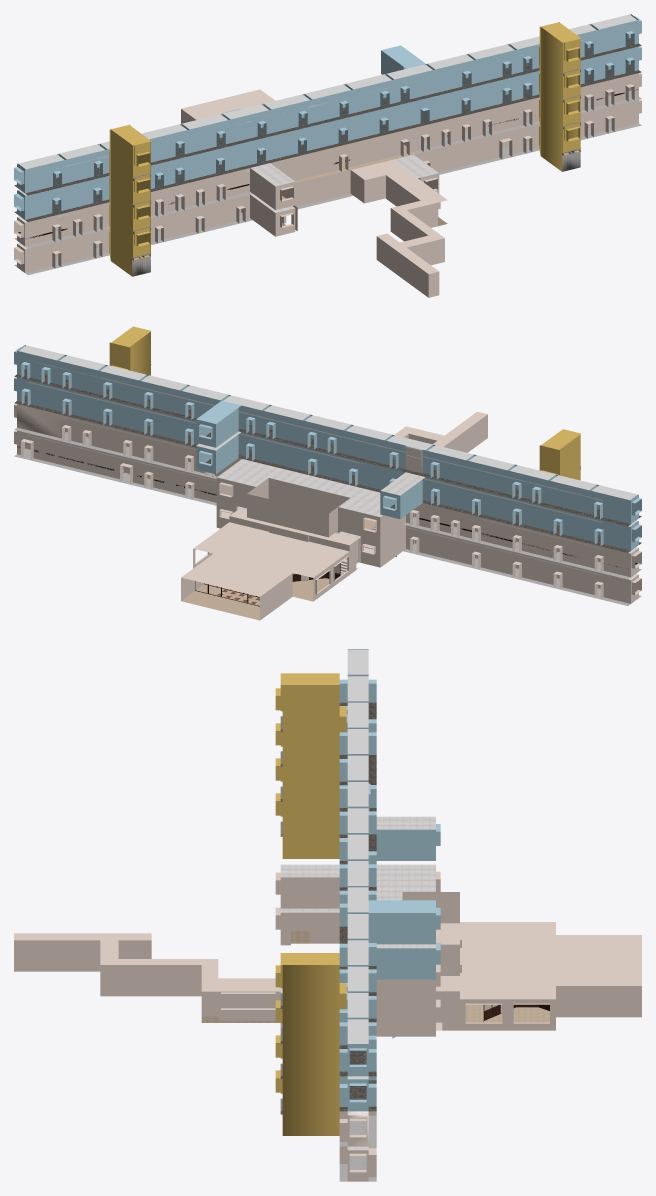
3 views of the same model, one above another, from view 1: azimuth 30°, elevation 25°; view 2: azimuth 150°, elevation 25°; view 3: azimuth 270°, elevation 25° (orthographic). The views are drawn at different scales.
Visible parts, largest first — view 1: 4et.001; view 2: 4et.001; view 3: 4et.001.
Boxes of the visible parts, bbox=[...] form: 4et.001: bbox=[14, 14, 641, 297]; 4et.001: bbox=[14, 326, 641, 620]; 4et.001: bbox=[14, 649, 641, 1181].
Size of the model in its own units: 90.54 by 18.36 by 60.01.
18 materials, 11 textured.
